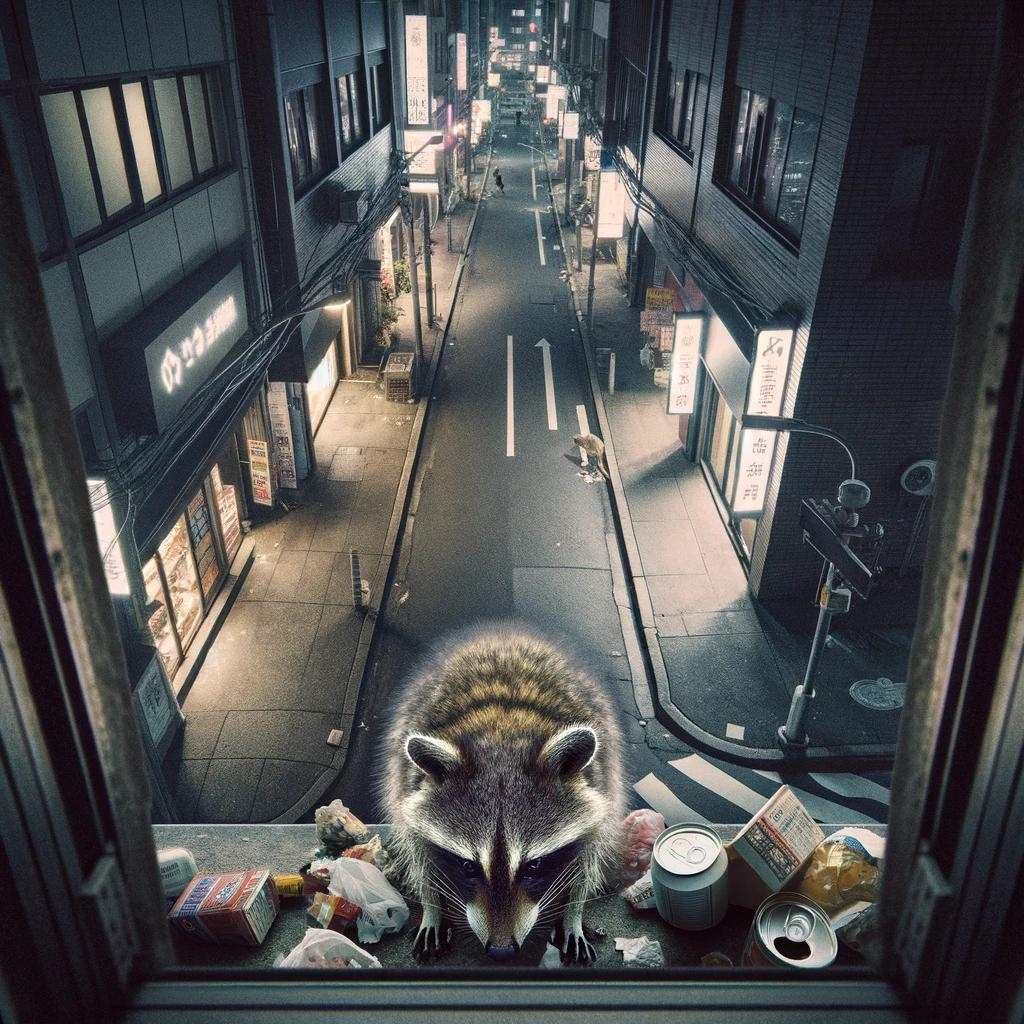raccoon: (367, 613, 635, 978)
